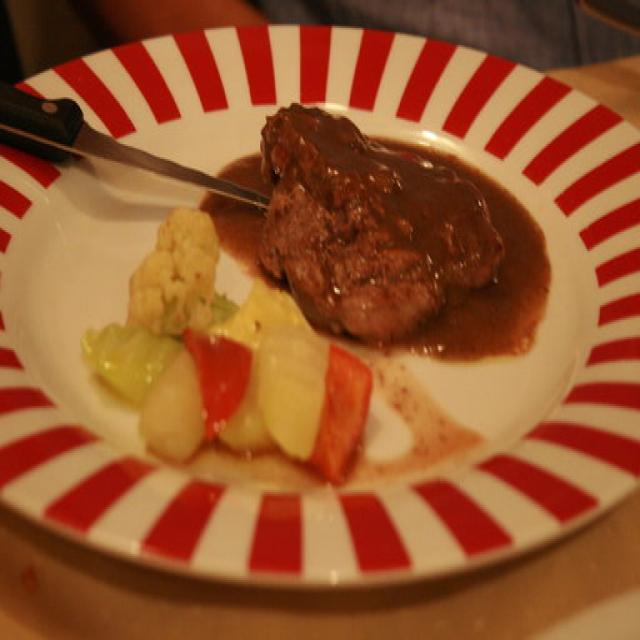Steak: (223, 75, 539, 387)
